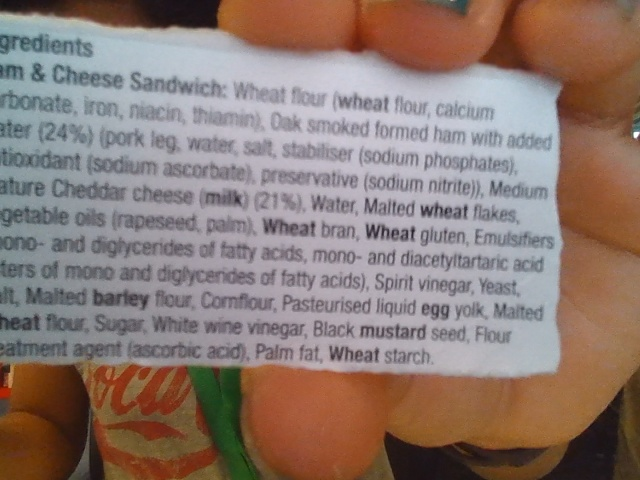egg: (419, 297, 453, 324)
milk: (198, 189, 255, 212)
